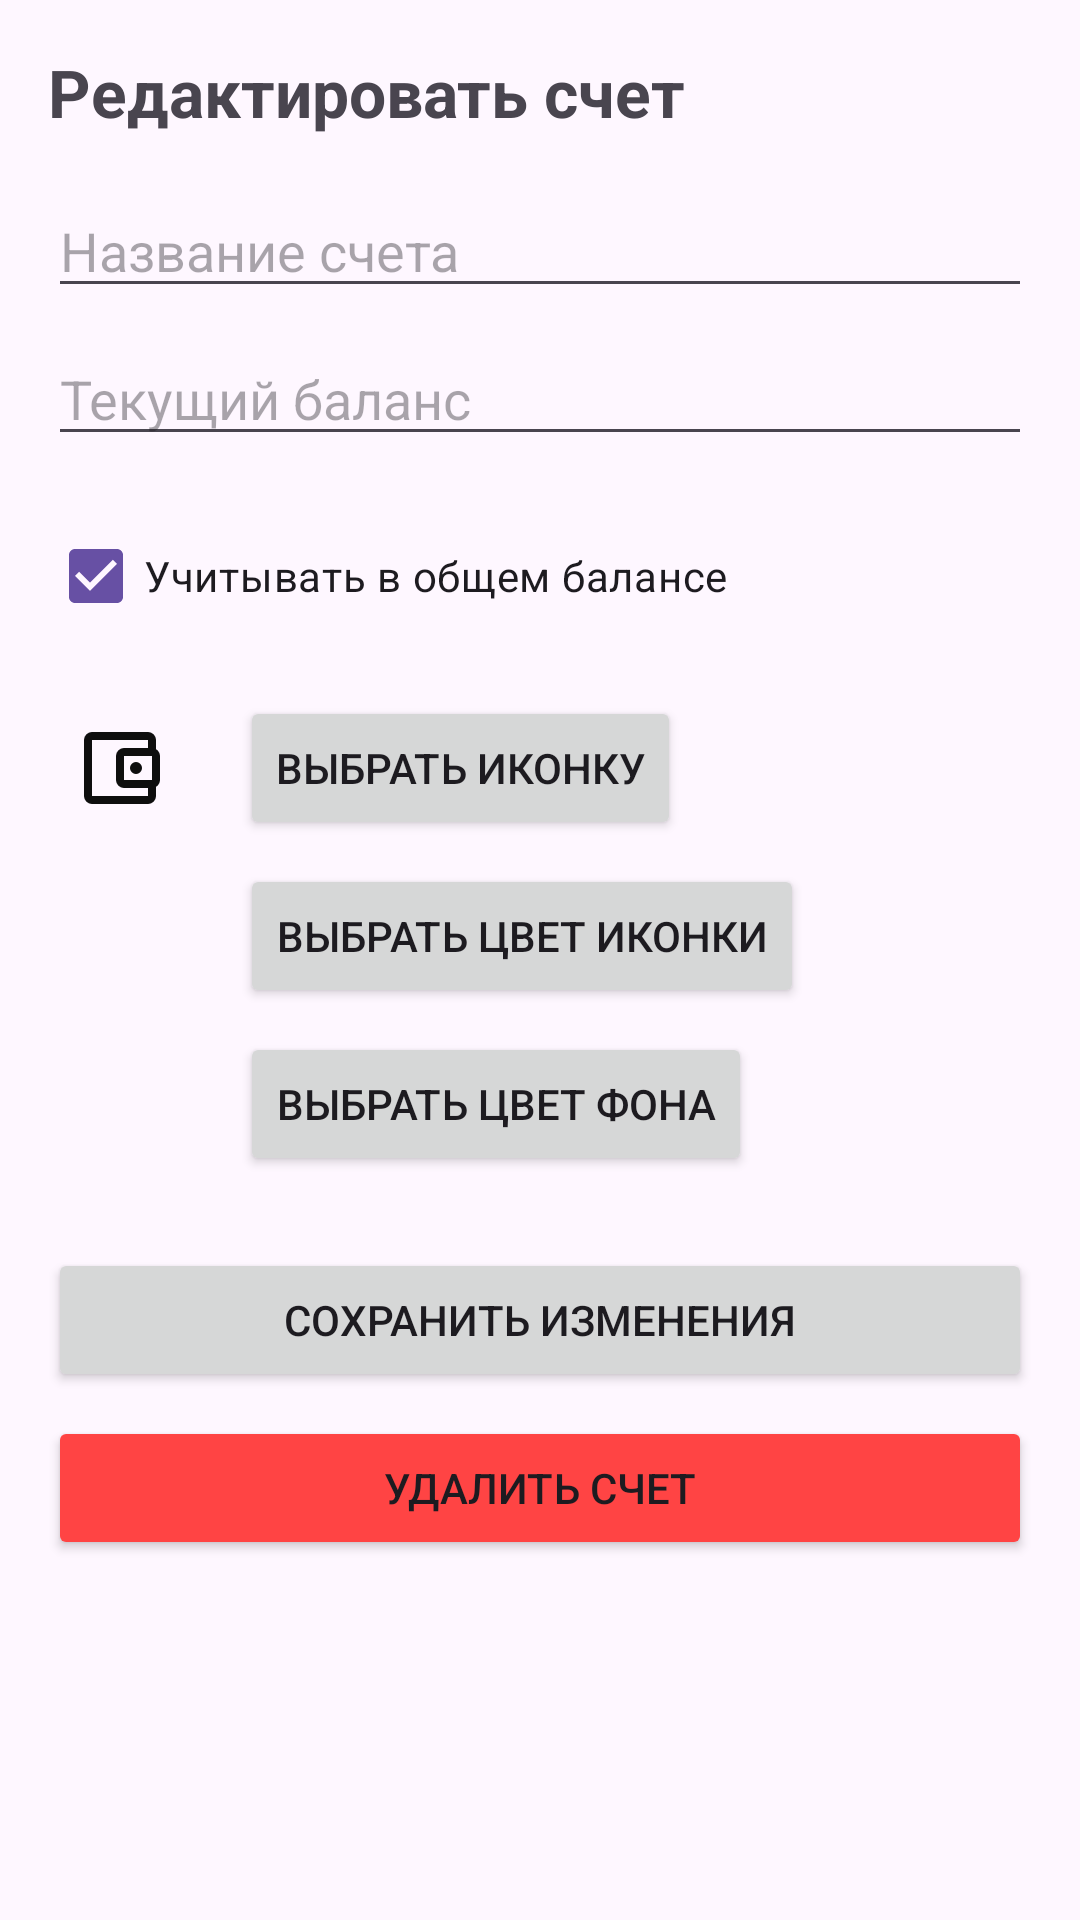

Icons on this 1080w x 1920h Android screen, each with the point to tap as (x=x, y=y):
wallet: (x=122, y=768)
